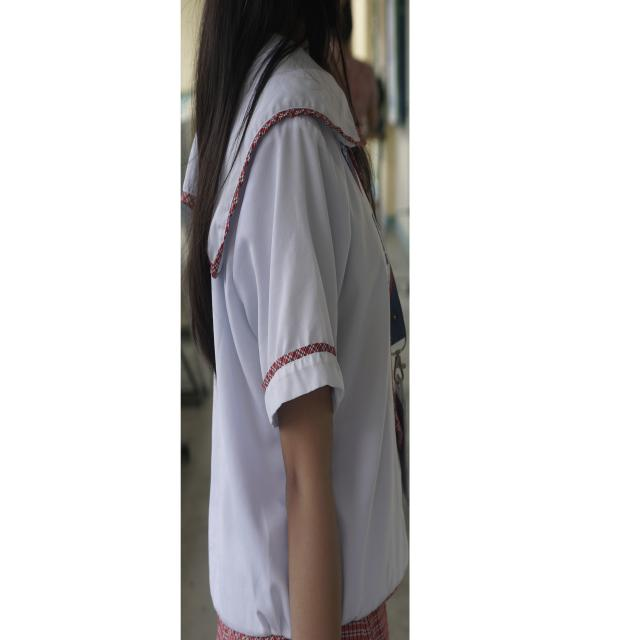pologirl: (205, 50, 408, 637)
